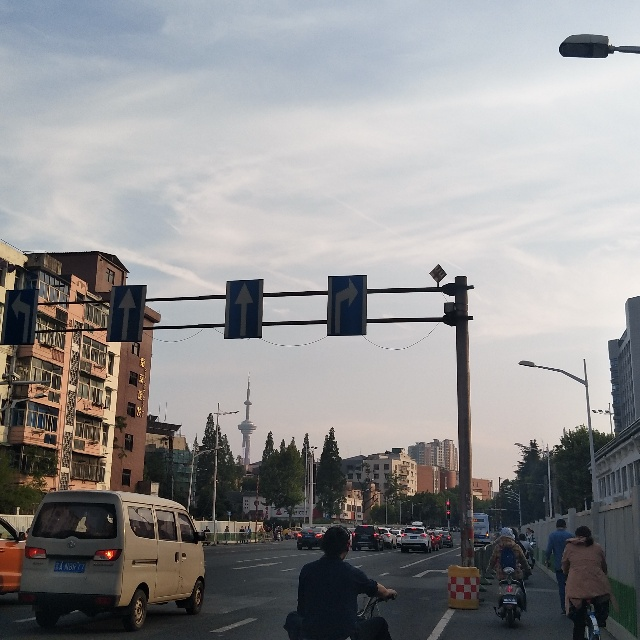left: (10, 294, 37, 347)
right: (327, 271, 366, 336)
straight: (227, 283, 263, 333), (115, 284, 145, 342)
